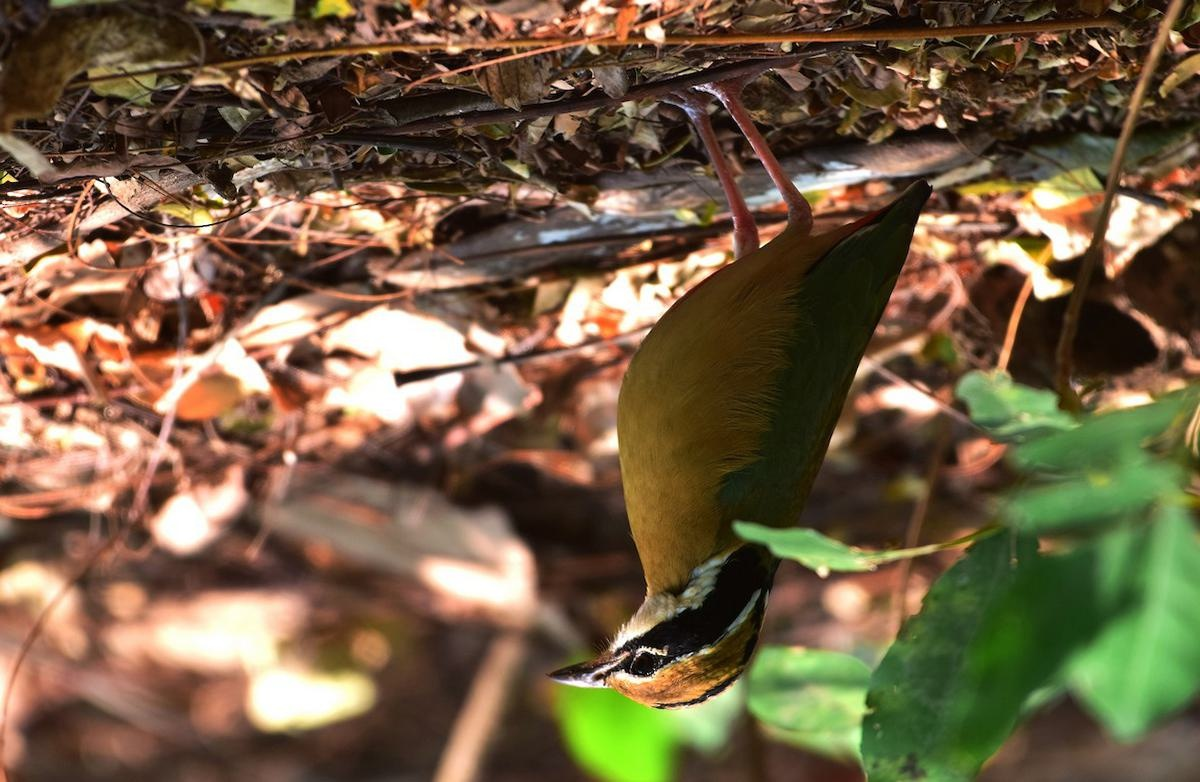pitta: (531, 94, 941, 739)
